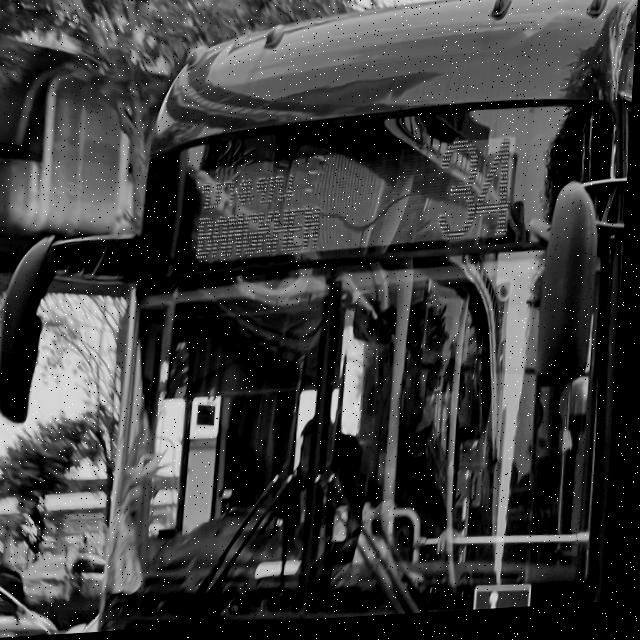Bus-Line-Number: (419, 122, 539, 259)
Destination-Sign-Normal: (190, 157, 343, 272)
TSB-Bus: (105, 0, 639, 634)
